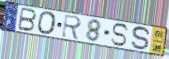8: (86, 19, 103, 43)
B: (17, 7, 38, 33)
O: (37, 11, 58, 36)
R: (60, 14, 83, 41)
S: (130, 25, 151, 51), (110, 23, 130, 48)
